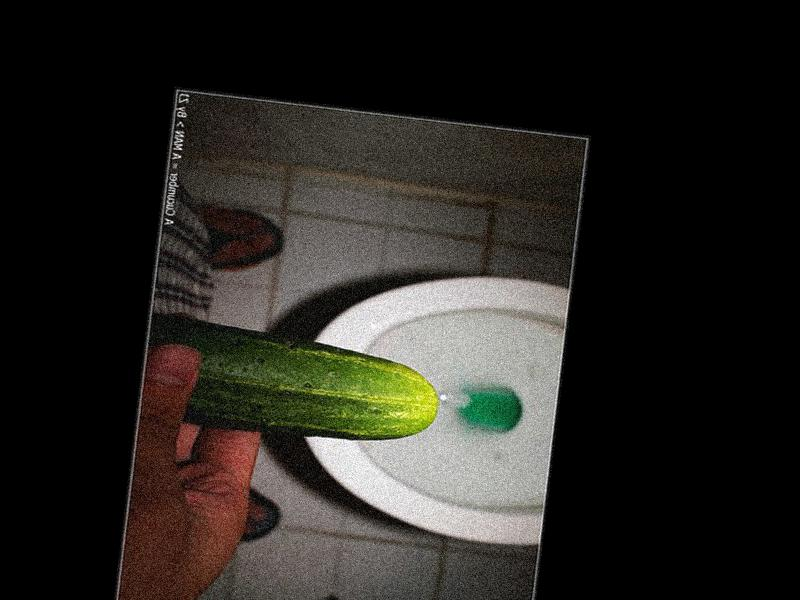Cucumber: (134, 312, 444, 451)
